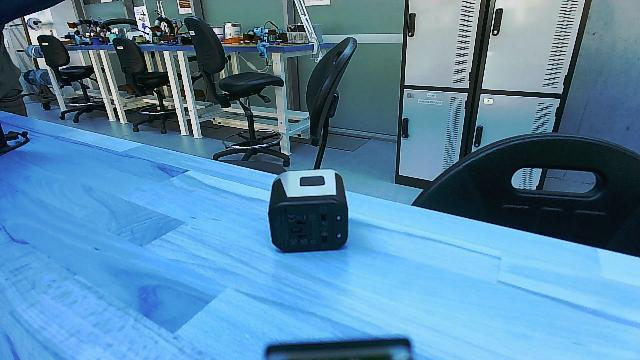adapter: (264, 169, 350, 255)
